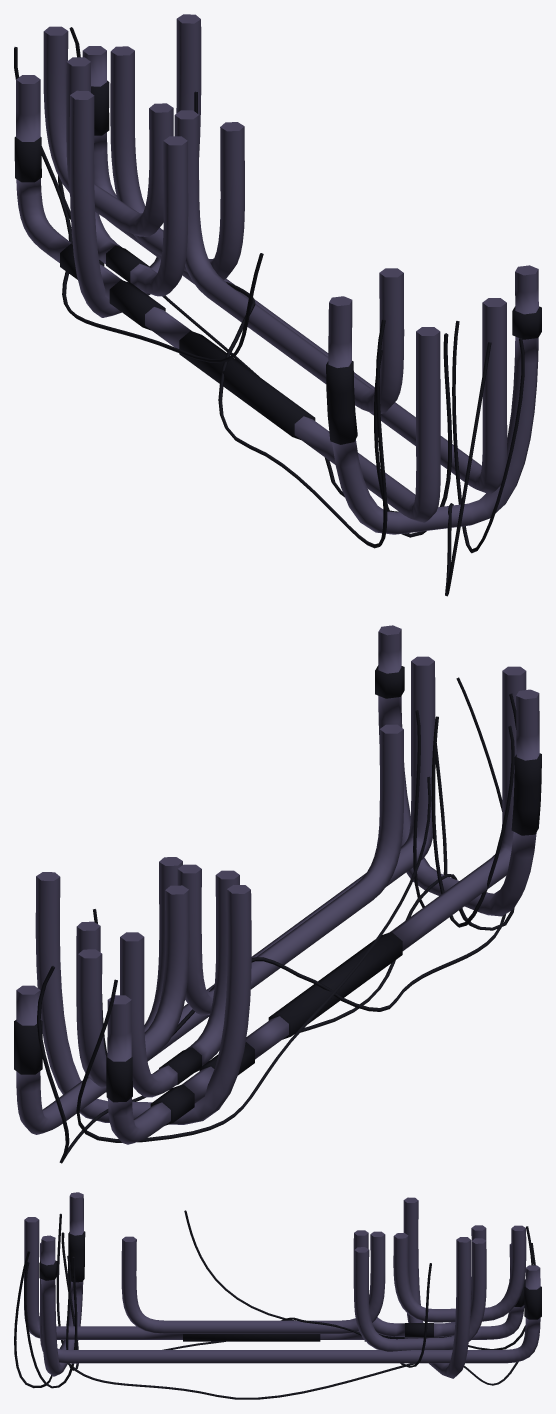
The model's file is new pipes.fbx.
3 views of the same model, one above another, from view 1: azimuth 30°, elevation 25°; view 2: azimuth 150°, elevation 25°; view 3: azimuth 270°, elevation 25° (orthographic). The views are drawn at different scales.
Visible parts, largest first — view 1: BezierCurve.008, BezierCurve.005, BezierCurve.007, BezierCurve, BezierCurve.009, BezierCurve.004, BezierCurve.002, BezierCurve.003, BezierCurve.001; view 2: BezierCurve.008, BezierCurve.004, BezierCurve.009, BezierCurve.007, BezierCurve, BezierCurve.005, BezierCurve.001, BezierCurve.003, BezierCurve.002; view 3: BezierCurve.009, BezierCurve.007, BezierCurve.008, BezierCurve, BezierCurve.005, BezierCurve.002, BezierCurve.004, BezierCurve.003, BezierCurve.001.
Part boxes in pixels (bbox=[...]): BezierCurve.008: bbox=[14, 75, 440, 522]; BezierCurve.005: bbox=[326, 265, 541, 534]; BezierCurve.007: bbox=[174, 110, 404, 413]; BezierCurve: bbox=[14, 27, 524, 596]; BezierCurve.009: bbox=[82, 46, 507, 493]; BezierCurve.004: bbox=[69, 14, 201, 317]; BezierCurve.002: bbox=[110, 46, 244, 279]; BezierCurve.003: bbox=[43, 26, 173, 236]; BezierCurve.001: bbox=[66, 57, 188, 296]; BezierCurve.008: bbox=[106, 666, 526, 1144]; BezierCurve.004: bbox=[35, 872, 251, 1124]; BezierCurve.009: bbox=[14, 656, 435, 1134]; BezierCurve.007: bbox=[177, 724, 403, 1015]; BezierCurve: bbox=[37, 677, 516, 1163]; BezierCurve.005: bbox=[375, 625, 541, 916]; BezierCurve.001: bbox=[120, 870, 239, 1097]; BezierCurve.003: bbox=[78, 885, 189, 1087]; BezierCurve.002: bbox=[76, 857, 182, 1086]; BezierCurve.009: bbox=[39, 1242, 541, 1363]; BezierCurve.007: bbox=[121, 1231, 385, 1333]; BezierCurve.008: bbox=[24, 1217, 525, 1341]; BezierCurve: bbox=[14, 1210, 535, 1399]; BezierCurve.005: bbox=[39, 1192, 85, 1376]; BezierCurve.002: bbox=[354, 1238, 486, 1351]; BezierCurve.004: bbox=[403, 1197, 471, 1378]; BezierCurve.003: bbox=[393, 1225, 526, 1322]; BezierCurve.001: bbox=[353, 1225, 486, 1337].
Size of the model in its own units: 321 by 471 by 1276.
